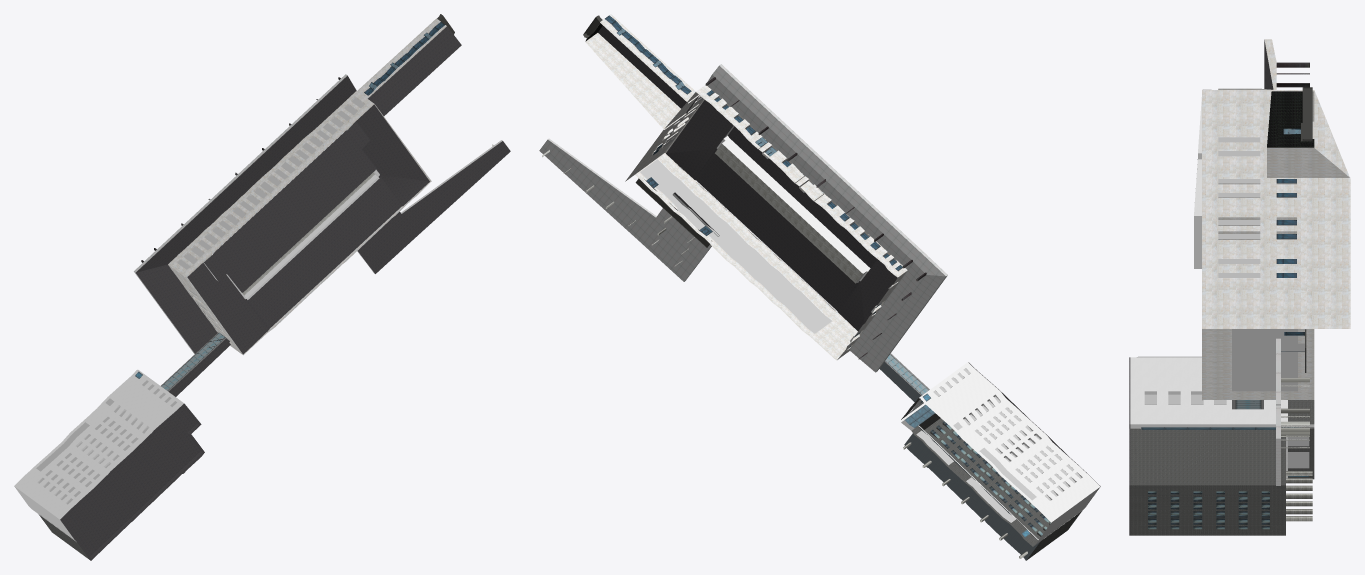
Rendered from Toompst_37_2-origo.obj.
3 views of the same model, side by side, from view 1: azimuth 30°, elevation 25°; view 2: azimuth 150°, elevation 25°; view 3: azimuth 270°, elevation 25° (orthographic). The views are drawn at different scales.
Parts seen in each view (by area): view 1: Toompst_37_2; view 2: Toompst_37_2; view 3: Toompst_37_2.
Part boxes in pixels (<box>): Toompst_37_2: <box>14,14,510,560</box>; Toompst_37_2: <box>539,14,1100,560</box>; Toompst_37_2: <box>1129,39,1350,535</box>.
Size of the model in its own units: 142 by 116 by 27.91.
